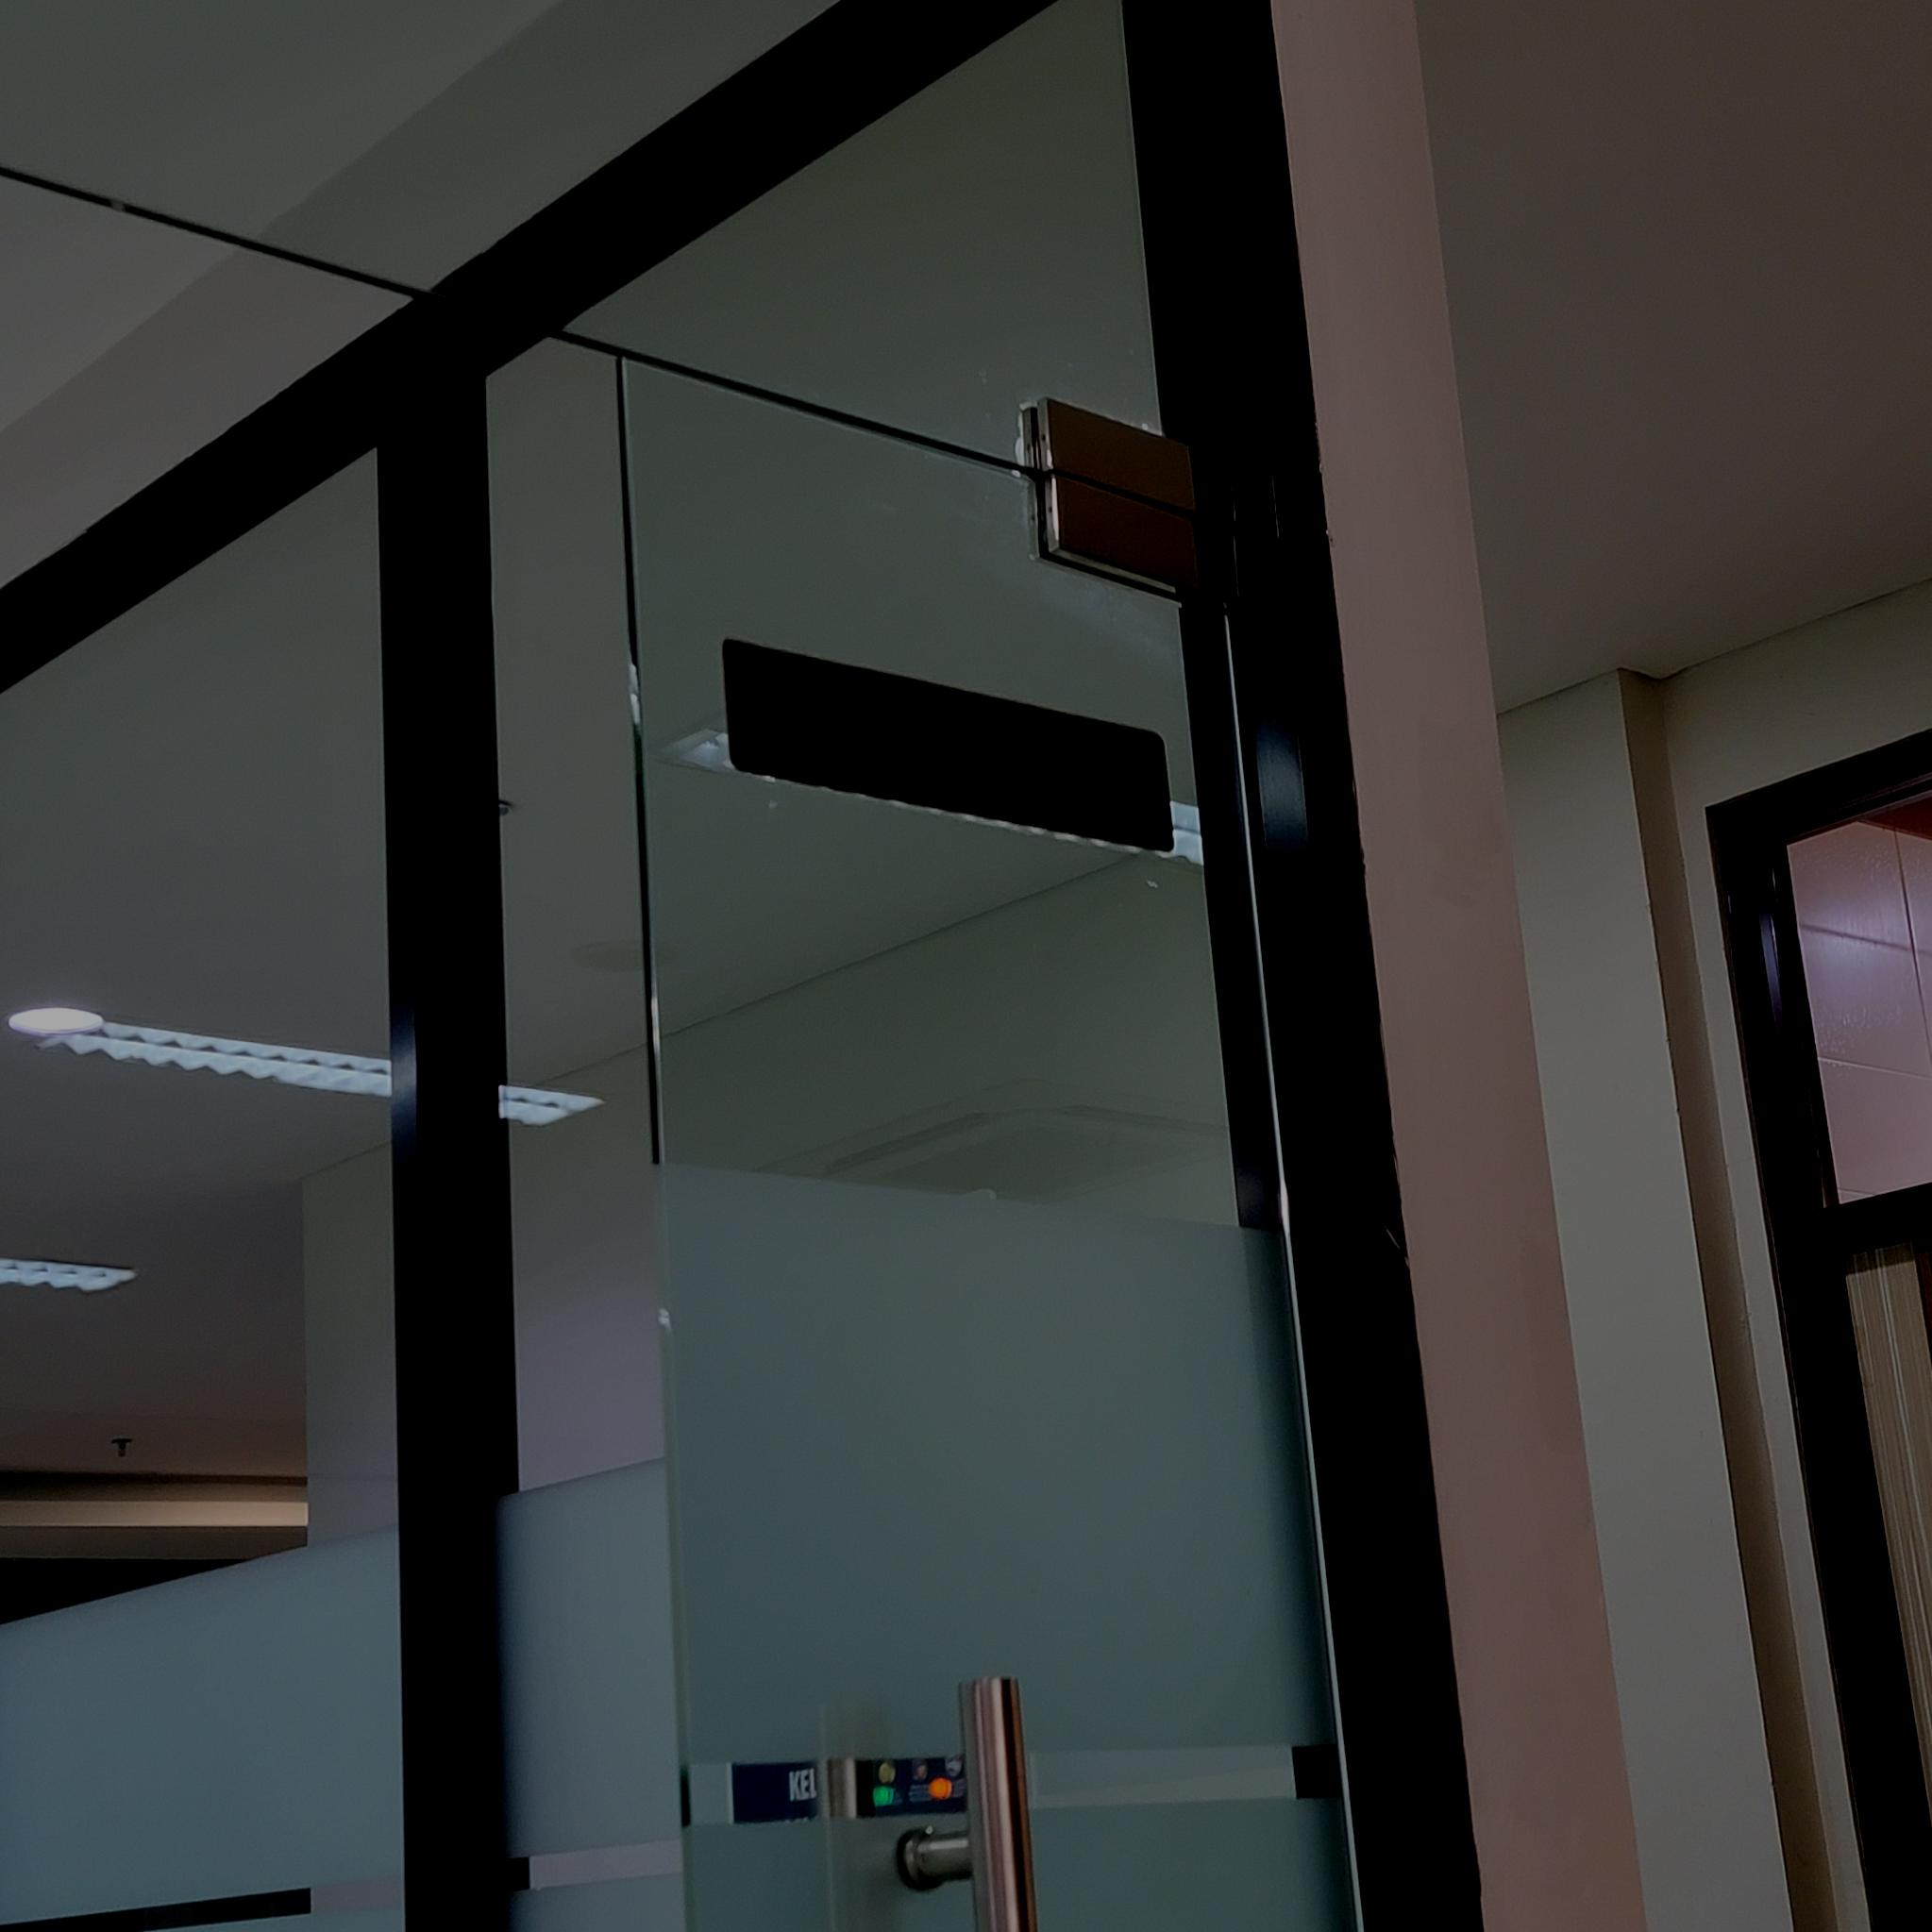plate: (722, 633, 1177, 856)
